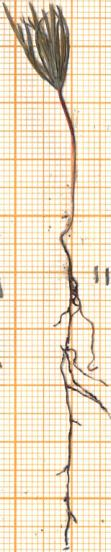flower: (0, 0, 74, 94)
root: (50, 235, 109, 551)
stem: (55, 93, 81, 235)
